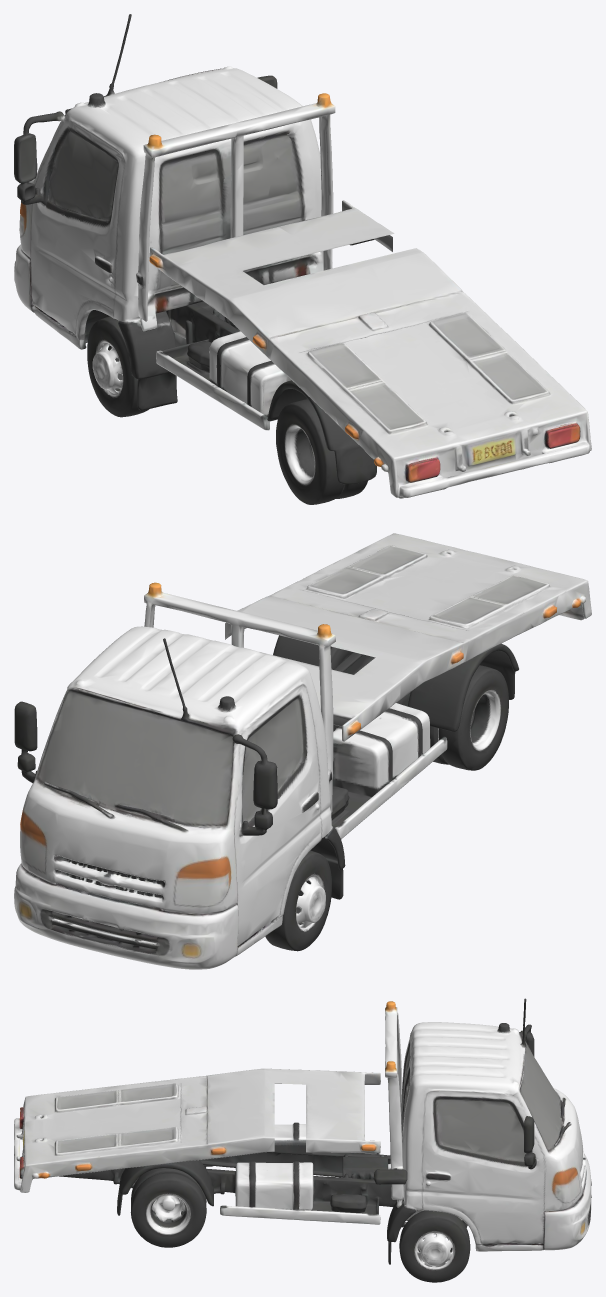
Rendered from 067_flatbed_tow_truck.glb.
3 views of the same model, one above another, from view 1: azimuth 30°, elevation 25°; view 2: azimuth 150°, elevation 25°; view 3: azimuth 270°, elevation 25° (orthographic). The views are drawn at different scales.
Visible parts, largest first — view 1: geometry_0; view 2: geometry_0; view 3: geometry_0.
Part boxes in pixels (box(x1,y1,x2,y2)): geometry_0: box(14, 14, 591, 504); geometry_0: box(14, 533, 591, 969); geometry_0: box(14, 998, 591, 1282).
Bounding box in the file's own units: 3.21 × 3.95 × 8.5.
Materials: 1 (1 with a texture image).
